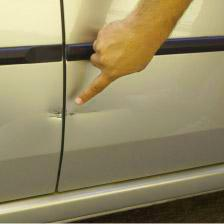door_dent: (38, 75, 126, 144)
